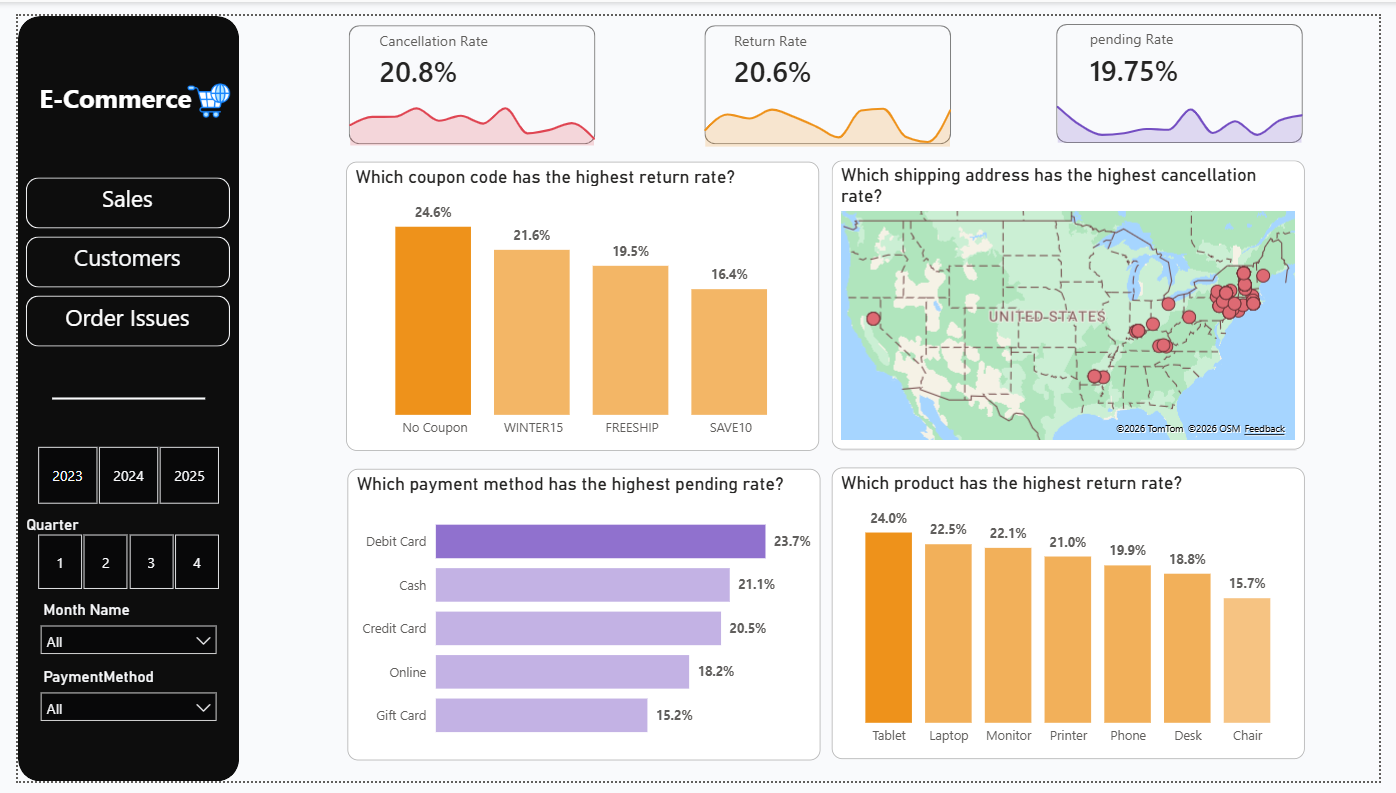

Layout of this report page (visuals, bound fields, positions):
{"tool":"powerbi","page":{"name":"Order Issues","canvas":[1280,720],"ordinal":2},"visuals":[{"type":"shape","box":[0,0,208,720],"z":0},{"type":"textbox","box":[7.7,55,168,48],"z":0,"group":"g4"},{"type":"image","box":[159.7,55,40,48],"z":1000,"group":"g4"},{"type":"slicer","fields":{"Values":["Date.Year"]},"box":[0,400,208,64],"z":1000},{"type":"slicer","fields":{"Values":["Date.Month Name"]},"box":[16,544,176,64],"z":2000},{"type":"slicer","fields":{"Values":["Date.Quarter"]},"box":[0,464,208,80],"z":3000},{"type":"slicer","fields":{"Values":["Sales.PaymentMethod"]},"box":[16,608,176,64],"z":4000},{"type":"textbox","box":[16,207.3,176,56],"z":4500,"group":"g2"},{"type":"shape","box":[8,207.3,192,48],"z":5000,"group":"g2"},{"type":"shape","box":[32,336,144,48],"z":5000},{"type":"textbox","box":[16,263.3,176,48],"z":5500,"group":"g3"},{"type":"group","id":"g1","title":"Group 1","box":[8,151.3,192,48],"z":6000},{"type":"shape","box":[8,263.3,192,48],"z":6000,"group":"g3"},{"type":"textbox","box":[16,151.3,176,48],"z":6500,"group":"g1"},{"type":"shape","box":[8,151.3,192,48],"z":7000,"group":"g1"},{"type":"group","id":"g2","title":"Group 2","box":[8,207.3,192,56],"z":7000},{"type":"group","id":"g3","title":"Group 3","box":[8,263.3,192,48],"z":8000},{"type":"group","id":"g4","title":"Group 4","box":[7.7,55,192,48],"z":9000},{"type":"group","id":"g5","title":"Group 5","box":[298.8,1.5,260,125],"z":10000},{"type":"shape","box":[311.5,9.5,232,112],"z":10000,"group":"g5"},{"type":"group","id":"g6","title":"Group 6","box":[626.1,0.8,264,126.5],"z":11000},{"type":"group","id":"g7","title":"Group 6","box":[960,0,264,128],"z":13000},{"type":"shape","box":[976,8,232,112],"z":13000,"group":"g7"},{"type":"shape","box":[646.4,8.8,232,112],"z":13000,"group":"g6"},{"type":"cardVisual","fields":{"Data":["Calculated.pending Rate"]},"box":[978,0,176,80],"z":15000,"group":"g7"},{"type":"cardVisual","fields":{"Data":["Calculated.Return Rate"]},"box":[645.1,0.8,176,80],"z":15000,"group":"g6"},{"type":"clusteredBarChart","title":"Which payment method has the highest pending rate?","fields":{"Category":["Sales.PaymentMethod"],"Y":["Calculated.pending Rate"]},"box":[309.5,426.4,445,274],"z":16000},{"type":"columnChart","title":"Which product has the highest return rate?","fields":{"Category":["Sales.Product"],"Y":["Calculated.Return Rate"]},"box":[765.5,424.4,445,274],"z":17000},{"type":"columnChart","title":"Which coupon code has the highest return rate?","fields":{"Category":["Sales.CouponCode"],"Y":["Calculated.Return Rate"]},"box":[308.4,137.1,445,272],"z":18000},{"type":"cardVisual","fields":{"Data":["Calculated.Cancellation Rate"]},"box":[311.5,1.5,200,80],"z":19000,"group":"g5"},{"type":"azureMap","title":"Which shipping address has the highest cancellation rate?","fields":{"Category":["Sales.ShippingAddress"],"Y":["Calculated.Cancellation Rate"]},"box":[765.5,136.4,445,272],"z":19000},{"type":"lineChart","fields":{"Category":["Date.Date.Variation.Date Hierarchy.Month"],"Y":["Calculated.Cancellation Rate"]},"box":[298.8,65.5,260,61],"z":20000,"group":"g5"},{"type":"lineChart","fields":{"Category":["Date.Date.Variation.Date Hierarchy.Month"],"Y":["Calculated.pending Rate"]},"box":[960,60.5,260,64],"z":21000,"group":"g7"},{"type":"lineChart","fields":{"Category":["Date.Date.Variation.Date Hierarchy.Month"],"Y":["Calculated.Return Rate"]},"box":[626.1,63.3,264,64],"z":21000,"group":"g6"}]}

Visuals, with their boxes in screenshot pixels (x1, y1, x2, y2), scaled from the page's 1280x720 canvas onto the 1396x793 screenshot:
shape: BBox(0, 0, 227, 792)
textbox: BBox(8, 61, 192, 113)
image: BBox(174, 61, 218, 113)
slicer - Date.Year: BBox(0, 441, 227, 511)
slicer - Date.Month Name: BBox(17, 599, 209, 670)
slicer - Date.Quarter: BBox(0, 511, 227, 599)
slicer - Sales.PaymentMethod: BBox(17, 670, 209, 740)
textbox: BBox(17, 228, 209, 290)
shape: BBox(9, 228, 218, 281)
shape: BBox(35, 370, 192, 423)
textbox: BBox(17, 290, 209, 343)
"Group 1" group: BBox(9, 167, 218, 220)
shape: BBox(9, 290, 218, 343)
textbox: BBox(17, 167, 209, 220)
shape: BBox(9, 167, 218, 220)
"Group 2" group: BBox(9, 228, 218, 290)
"Group 3" group: BBox(9, 290, 218, 343)
"Group 4" group: BBox(8, 61, 218, 113)
"Group 5" group: BBox(326, 2, 609, 139)
shape: BBox(340, 10, 593, 134)
"Group 6" group: BBox(683, 1, 971, 140)
"Group 6" group: BBox(1047, 0, 1335, 141)
shape: BBox(1064, 9, 1317, 132)
shape: BBox(705, 10, 958, 133)
cardVisual - Calculated.pending Rate: BBox(1067, 0, 1259, 88)
cardVisual - Calculated.Return Rate: BBox(704, 1, 896, 89)
"Which payment method has the highest pending rate?" clusteredBarChart: BBox(338, 470, 823, 771)
"Which product has the highest return rate?" columnChart: BBox(835, 467, 1320, 769)
"Which coupon code has the highest return rate?" columnChart: BBox(336, 151, 822, 451)
cardVisual - Calculated.Cancellation Rate: BBox(340, 2, 558, 90)
"Which shipping address has the highest cancellation rate?" azureMap: BBox(835, 150, 1320, 450)
lineChart - Date.Date.Variation.Date Hierarchy.Month x Calculated.Cancellation Rate: BBox(326, 72, 609, 139)
lineChart - Date.Date.Variation.Date Hierarchy.Month x Calculated.pending Rate: BBox(1047, 67, 1331, 137)
lineChart - Date.Date.Variation.Date Hierarchy.Month x Calculated.Return Rate: BBox(683, 70, 971, 140)
